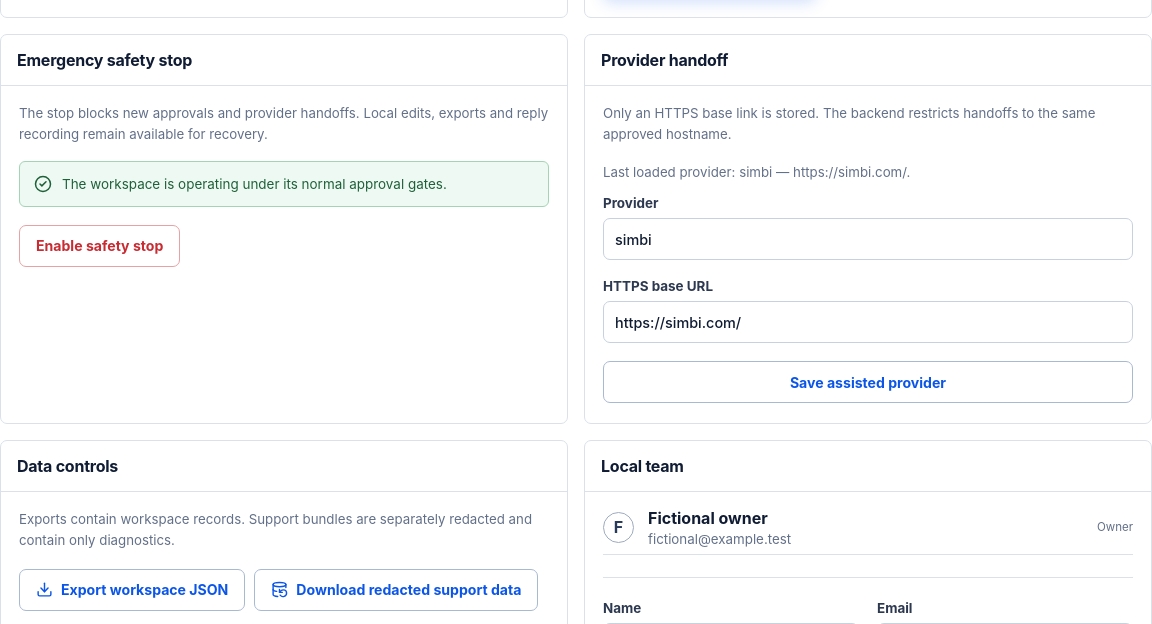
Test: preserves the original provider input through contradictory follow-up and explicit read-only recovery
The image size is (1152, 624).
(page scrolled)
Replace the text in the field labelled "HTTPS base URL" with "https://simbi.com/personal-input#keep-this" at (868, 322), box x1=603 y1=301 x2=1133 y2=343
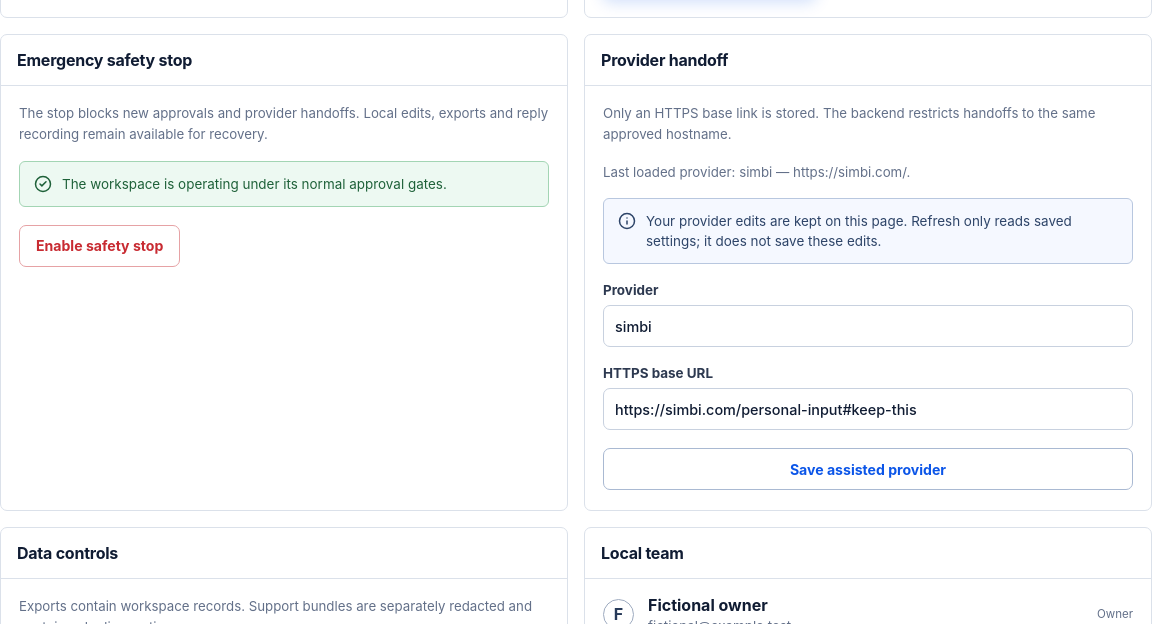
Click the button "Save assisted provider".
click(868, 470)  # box x1=603 y1=448 x2=1133 y2=490
(page scrolled)
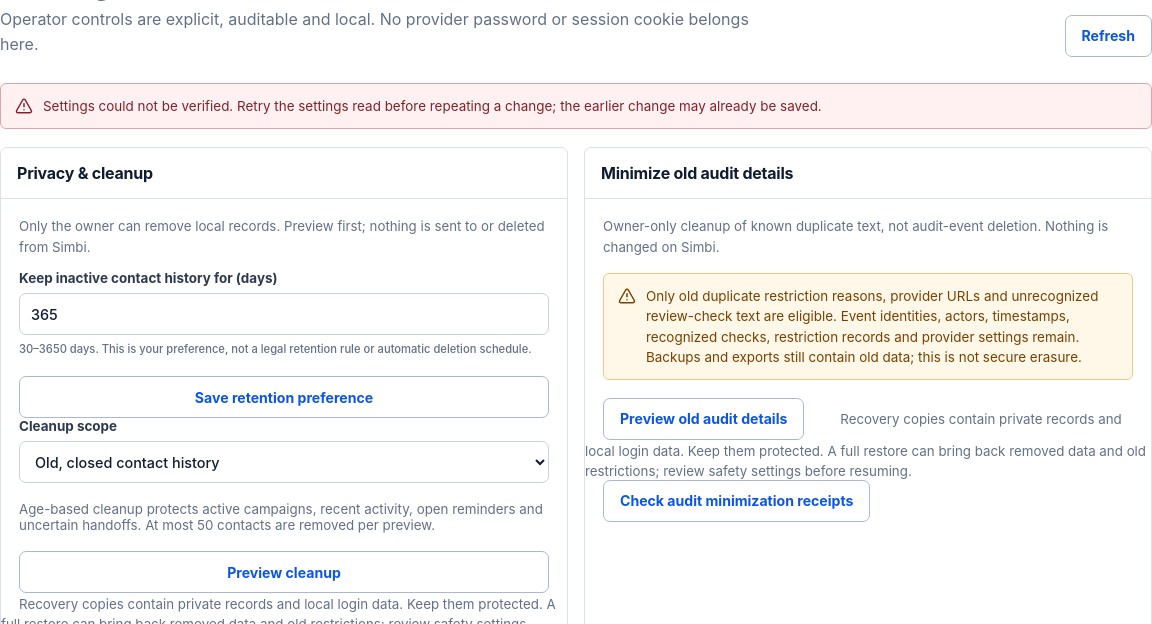
Expected: the text "Settings could not be verified" is shown, x1=43 y1=98 x2=822 y2=114
Click the button "Refresh".
click(1108, 36)  # box x1=1064 y1=15 x2=1151 y2=57
(page scrolled)
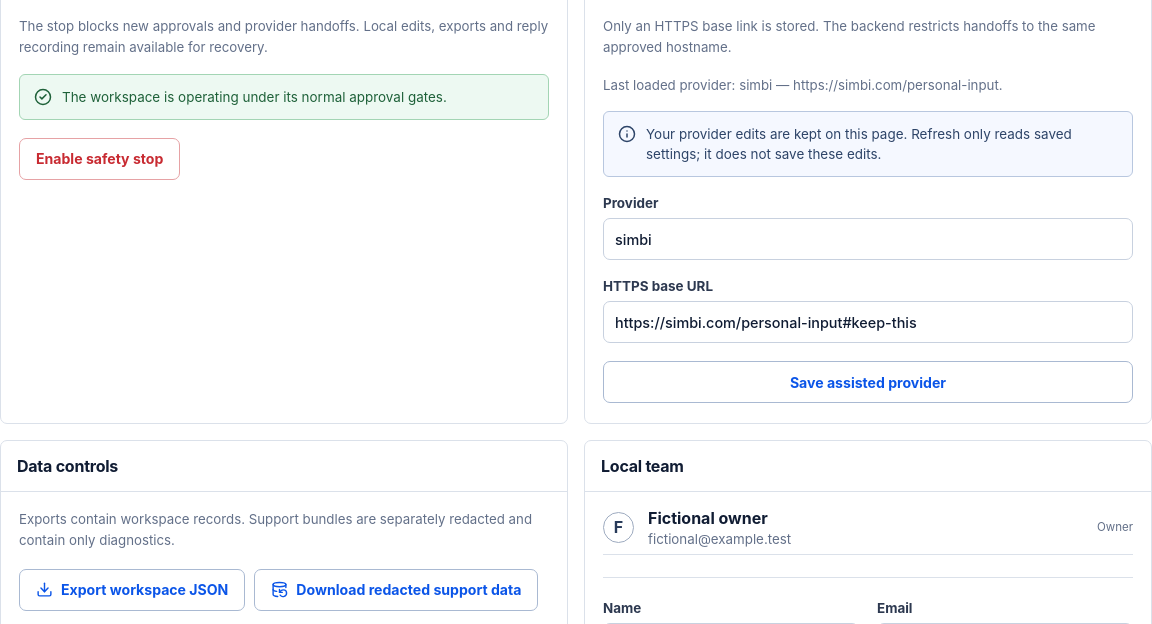
Expected: the button "Save assisted provider" is enabled, x1=603 y1=362 x2=1133 y2=404
